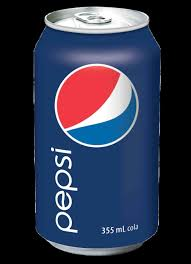pepsi: (47, 63, 142, 147)
